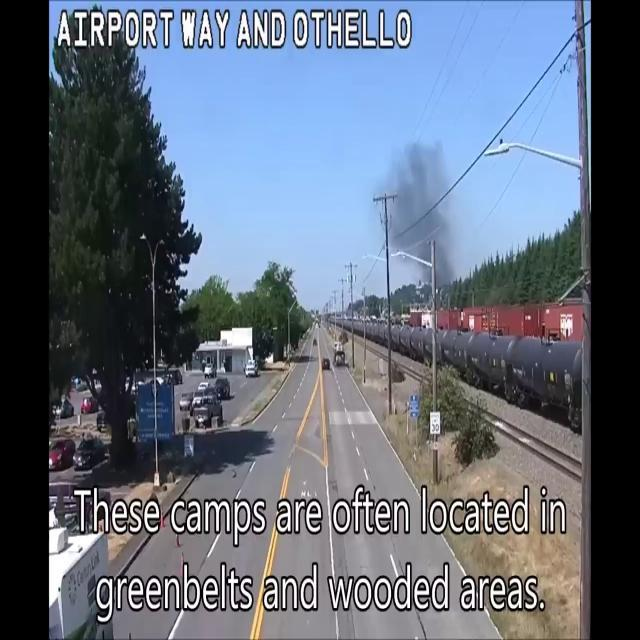Smoke: (370, 129, 455, 295)
